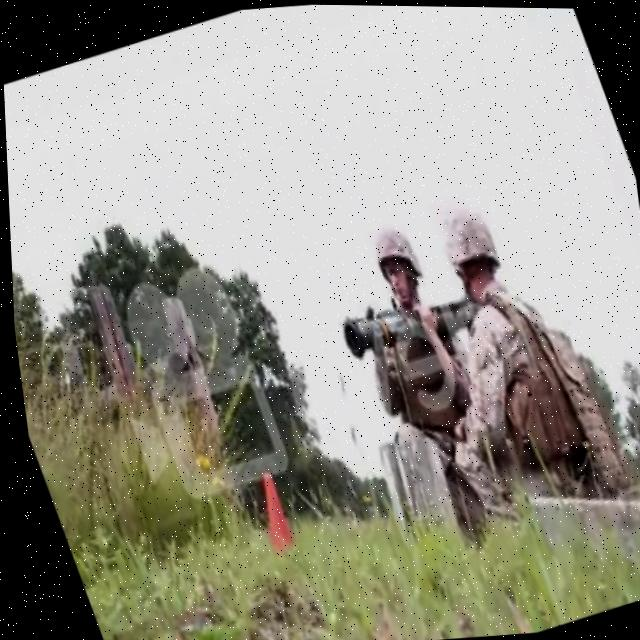rocket: (331, 280, 473, 362)
